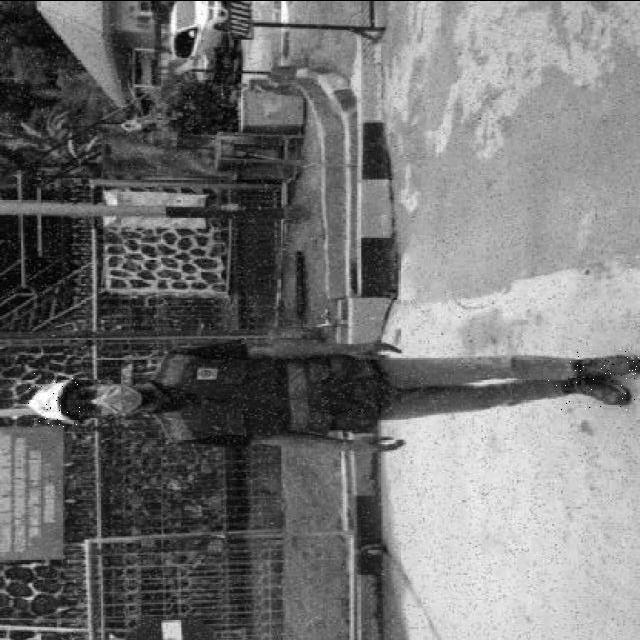boots: (548, 374, 636, 408), (568, 348, 640, 382)
helmet: (27, 372, 81, 426)
